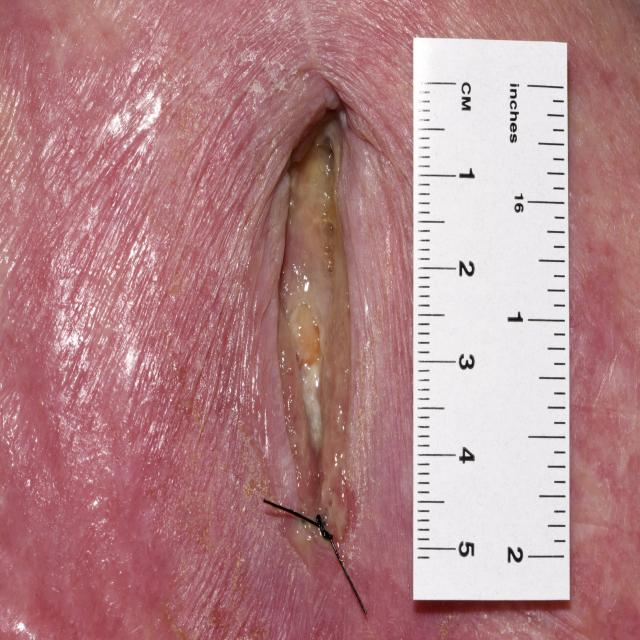wound: (263, 110, 367, 614)
